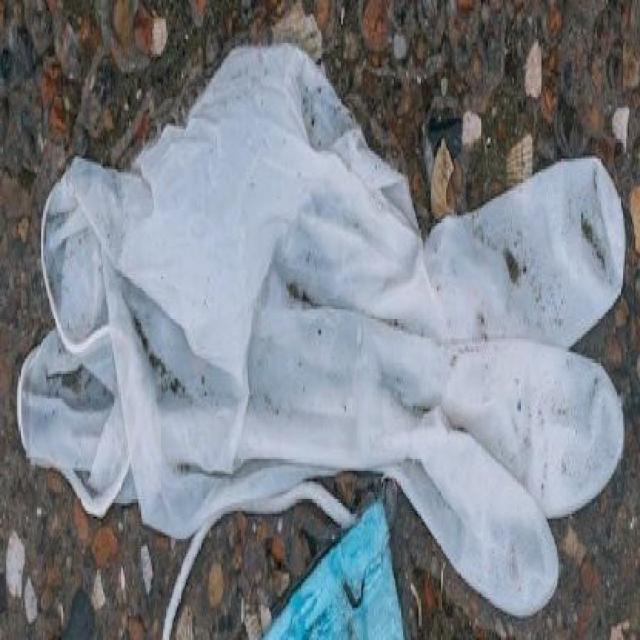gloved_hand: (18, 33, 628, 624)
